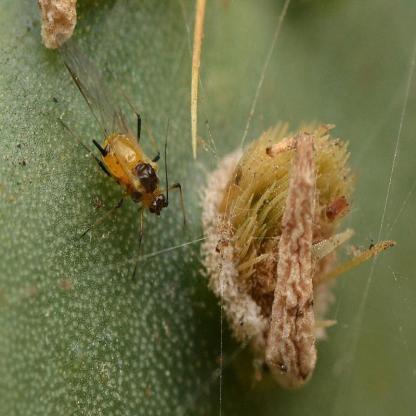aphid: (51, 57, 192, 253)
